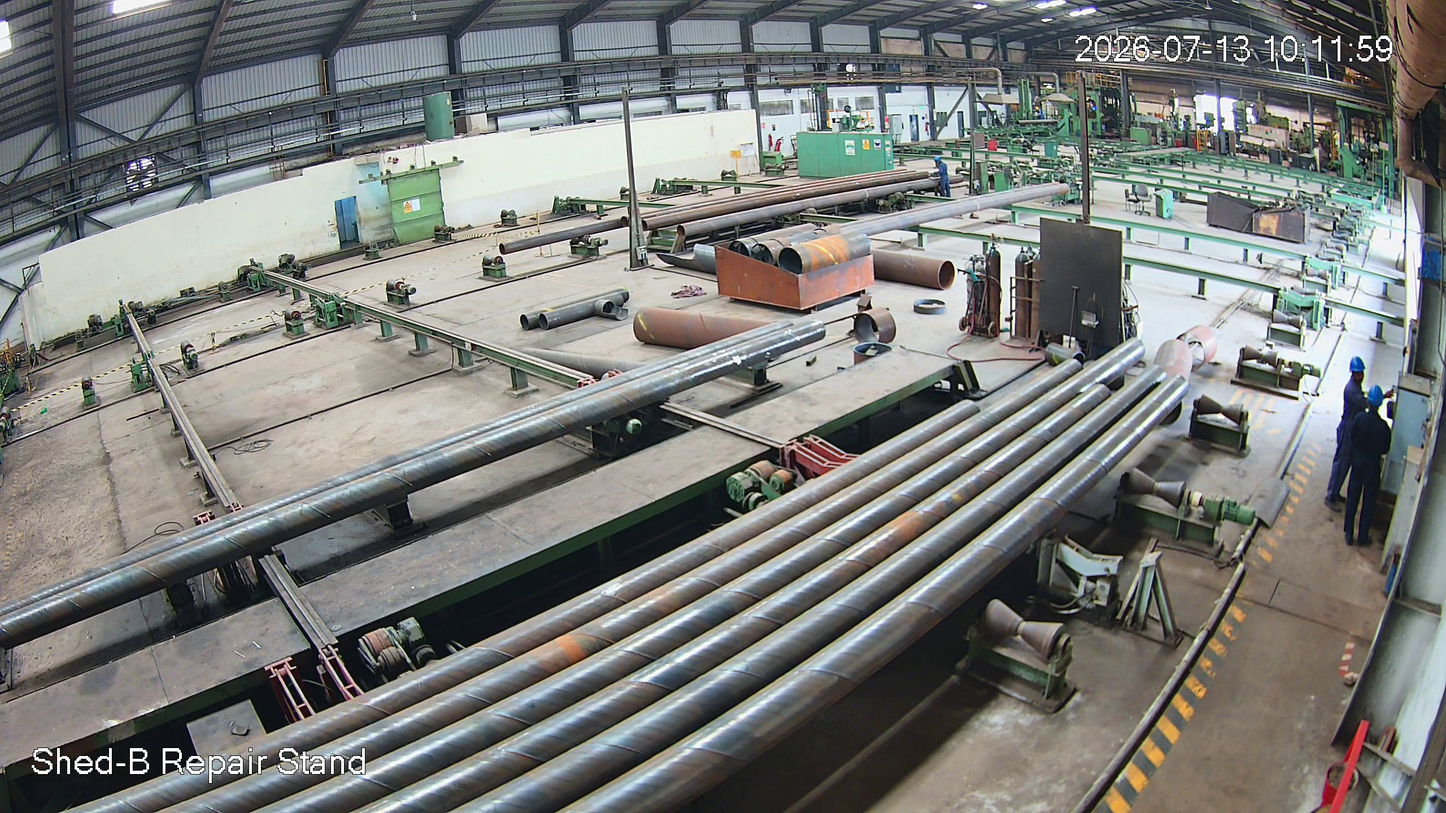Helmet: (1364, 382, 1386, 416)
Person: (1340, 385, 1388, 548)
